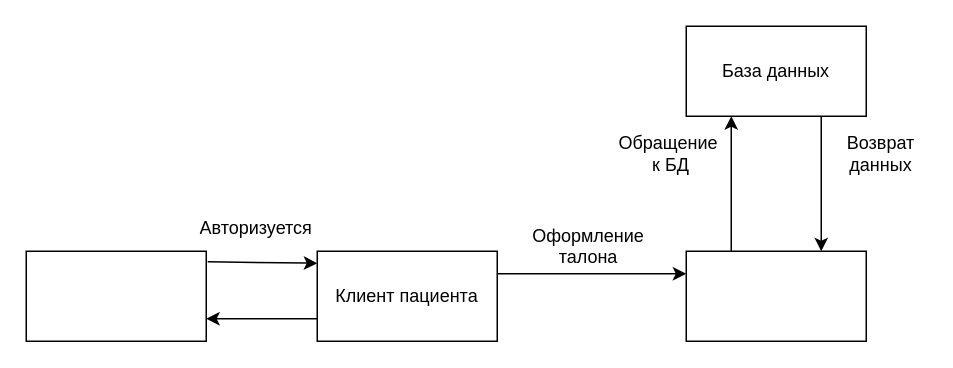
Some shapes in this 953 by 368 pixel diagram are drawn without their labels. Here are the shapes that lost their labels. From the top down, the centre of each, then its label:
At point (115, 295): "Пацинет".
At point (775, 295): "Сервер".
